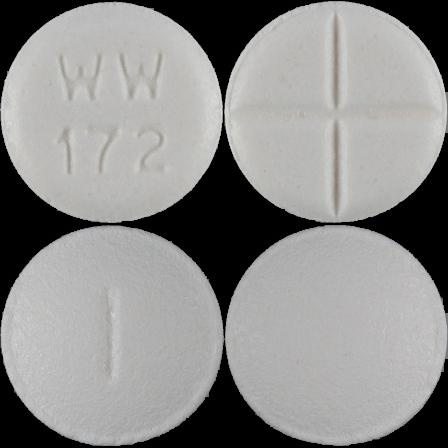21695-477: (0, 0, 224, 224)
